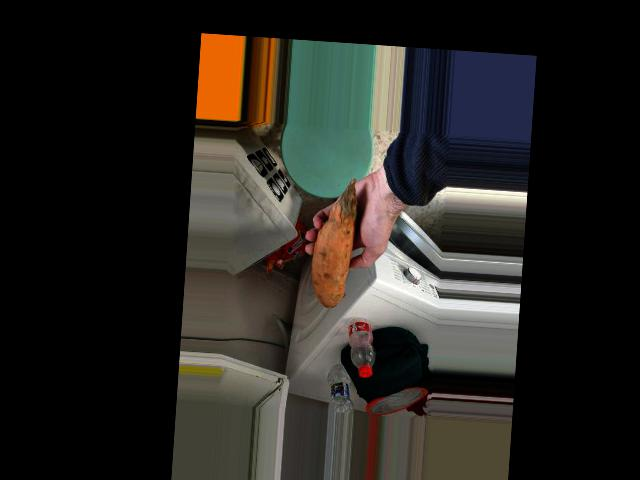sweet_potato: (309, 191, 361, 297)
